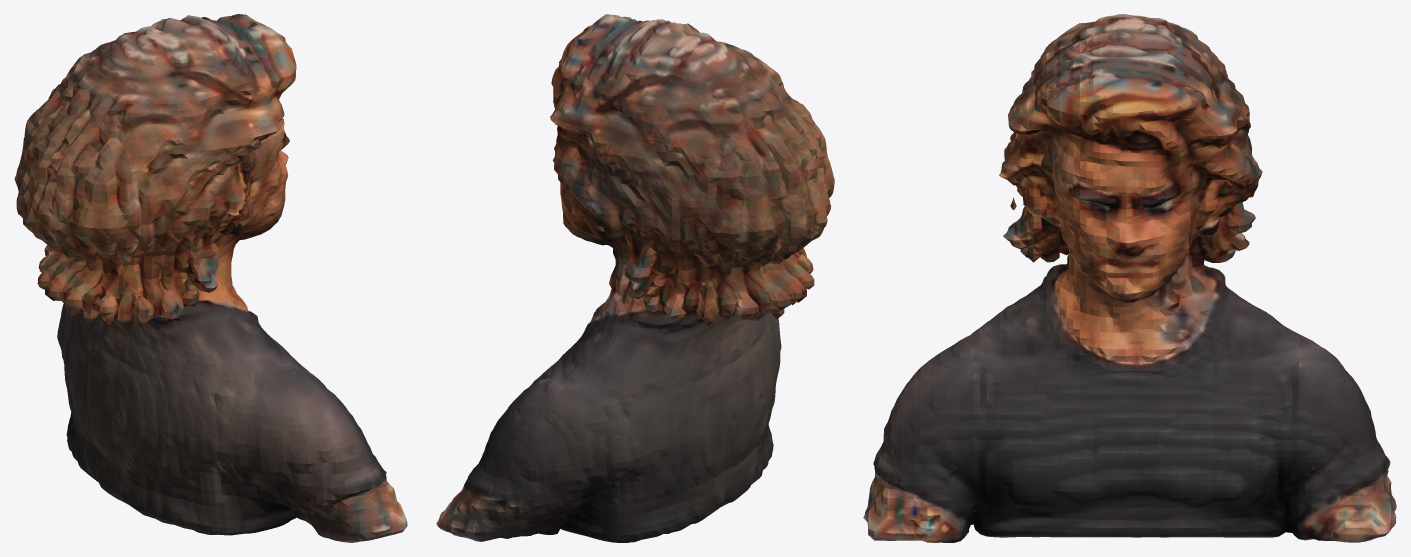
3 renders of one model, left to right at view 1: azimuth 30°, elevation 25°; view 2: azimuth 150°, elevation 25°; view 3: azimuth 270°, elevation 25°, orthographic. The views are drawn at different scales.
Visible parts, largest first — view 1: mesh.obj; view 2: mesh.obj; view 3: mesh.obj.
Part boxes in pixels (<box>): mesh.obj: <box>14,14,407,542</box>; mesh.obj: <box>436,14,834,542</box>; mesh.obj: <box>863,14,1396,542</box>.
Size of the model in its own units: 0.5923 by 0.9704 by 0.9785.
1 material, 1 textured.
